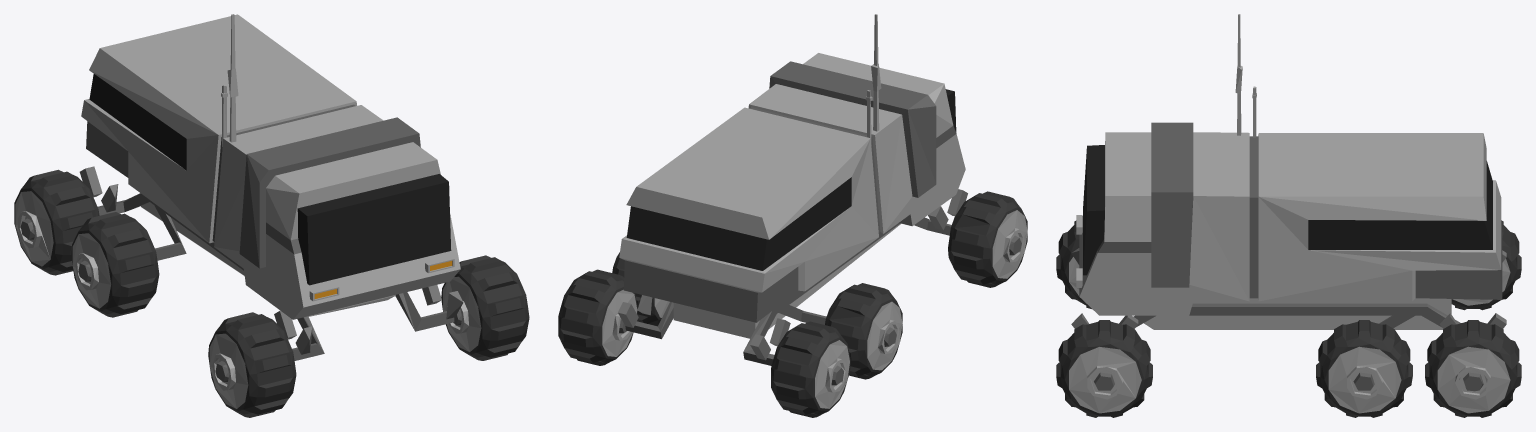
Rendered from transport.glb.
3 views of the same model, side by side, from view 1: azimuth 30°, elevation 25°; view 2: azimuth 150°, elevation 25°; view 3: azimuth 270°, elevation 25° (orthographic). The views are drawn at different scales.
Parts seen in each view (by area): view 1: Rover_2, Wheel_4, Wheel_6, Wheel_5, Wheel_2; view 2: Rover_2, Wheel_4, Wheel_2, Wheel_3, Wheel_6, Wheel_1; view 3: Rover_2, Wheel_5, Wheel_1, Wheel_3, Wheel_2, Wheel_4.
Part boxes in pixels (x1,y1,x2,y2): Rover_2: [79, 14, 463, 360]; Wheel_4: [208, 312, 296, 417]; Wheel_6: [71, 212, 159, 317]; Wheel_5: [441, 255, 529, 360]; Wheel_2: [14, 169, 99, 275]; Rover_2: [618, 14, 967, 365]; Wheel_4: [948, 191, 1027, 287]; Wheel_2: [771, 321, 850, 417]; Wheel_3: [558, 269, 637, 365]; Wheel_6: [825, 283, 902, 379]; Wheel_1: [612, 252, 669, 326]; Rover_2: [1071, 14, 1506, 329]; Wheel_5: [1056, 320, 1152, 417]; Wheel_1: [1316, 320, 1412, 417]; Wheel_3: [1425, 320, 1521, 417]; Wheel_2: [1451, 220, 1521, 310]; Wheel_4: [1056, 220, 1091, 308].
Bounding box in the file's own units: 4.58 × 4.88 × 6.56.
1 material, 1 textured.
